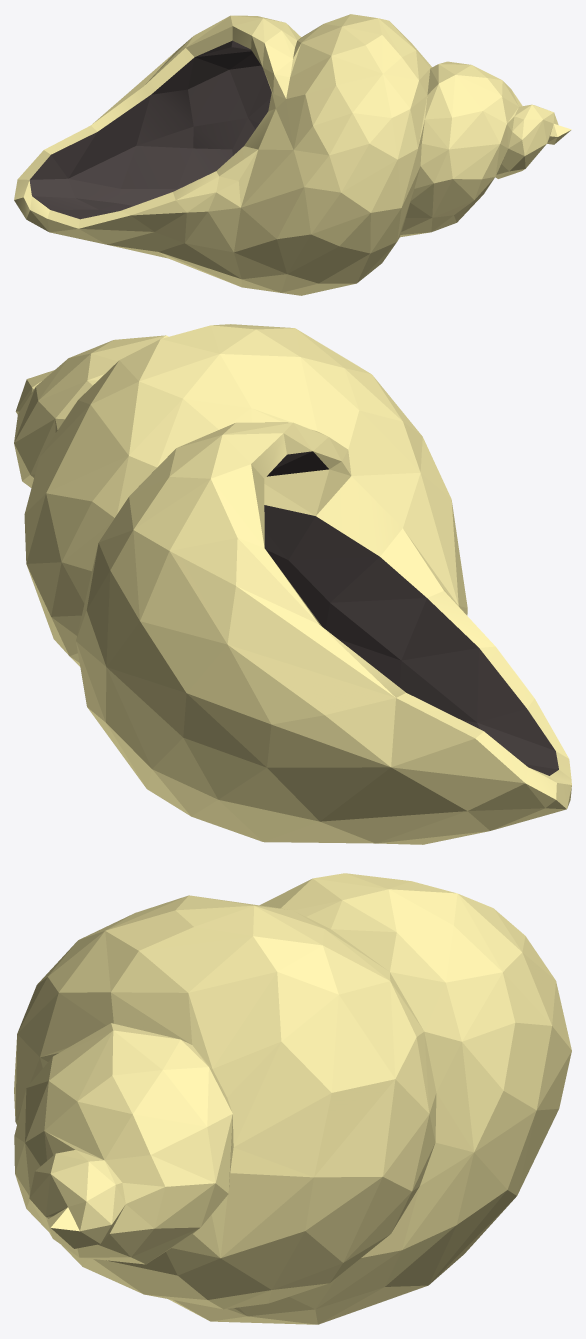
The model's file is Hailuo.fbx.
3 views of the same model, one above another, from view 1: azimuth 30°, elevation 25°; view 2: azimuth 150°, elevation 25°; view 3: azimuth 270°, elevation 25° (orthographic). The views are drawn at different scales.
Visible parts, largest first — view 1: samor_2025_03; view 2: samor_2025_03; view 3: samor_2025_03.
Part boxes in pixels (bbox=[...]): samor_2025_03: bbox=[14, 14, 571, 295]; samor_2025_03: bbox=[14, 324, 571, 844]; samor_2025_03: bbox=[14, 873, 571, 1324].
Bounding box in the file's own units: 278 × 153 × 177.
